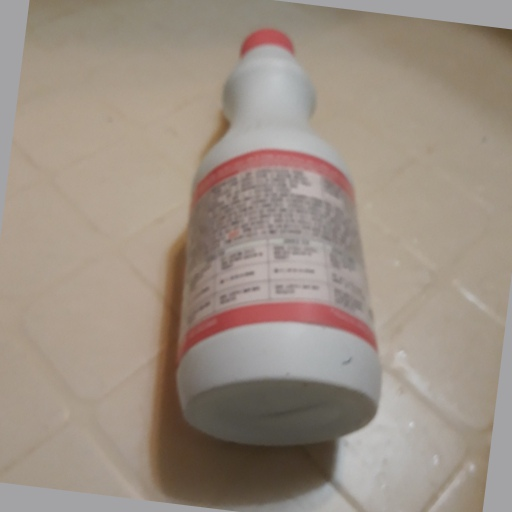Plastic_0: (172, 27, 383, 439)
